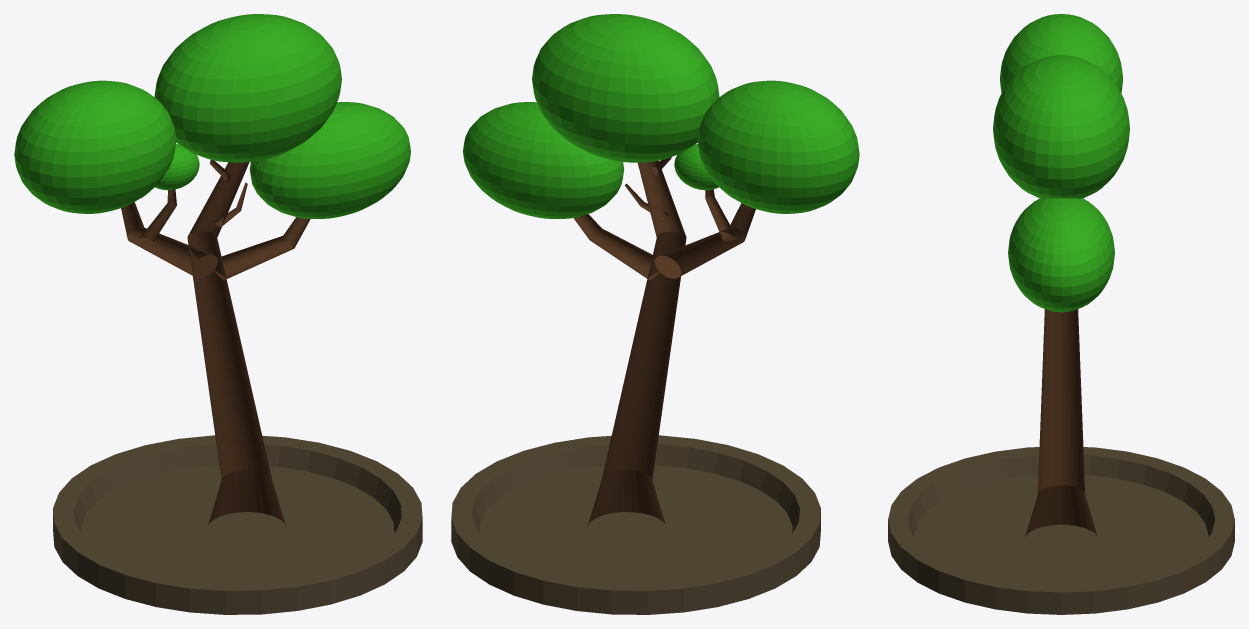
The model's file is arbol 3 (1).fbx.
3 views of the same model, side by side, from view 1: azimuth 30°, elevation 25°; view 2: azimuth 150°, elevation 25°; view 3: azimuth 270°, elevation 25° (orthographic). The views are drawn at different scales.
Visible parts, largest first — view 1: Sphere.004; view 2: Sphere.004; view 3: Sphere.004.
Part boxes in pixels (x1=…): Sphere.004: x1=14, y1=14, x2=422, y2=614; Sphere.004: x1=451, y1=14, x2=859, y2=614; Sphere.004: x1=888, y1=14, x2=1234, y2=614.
Bounding box in the file's own units: 382 × 486 × 318.
